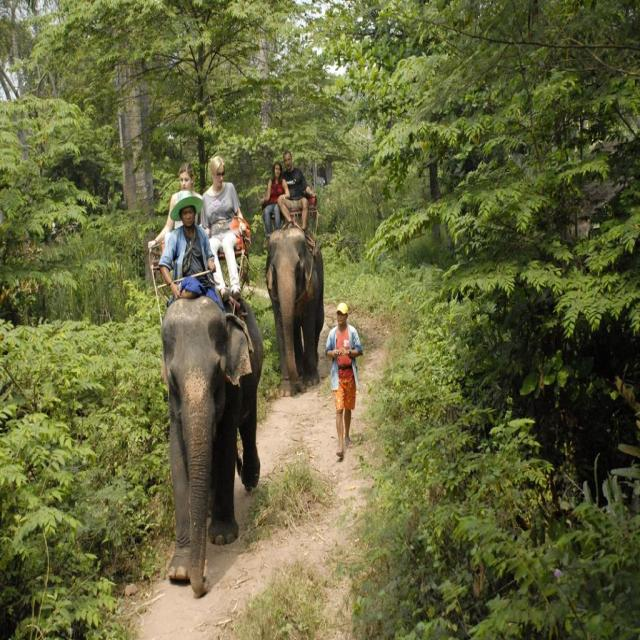Elephant: (160, 292, 263, 597), (264, 224, 324, 397)
person: (199, 155, 245, 302), (324, 302, 363, 457), (148, 162, 204, 262), (278, 150, 316, 246), (260, 160, 290, 248)
